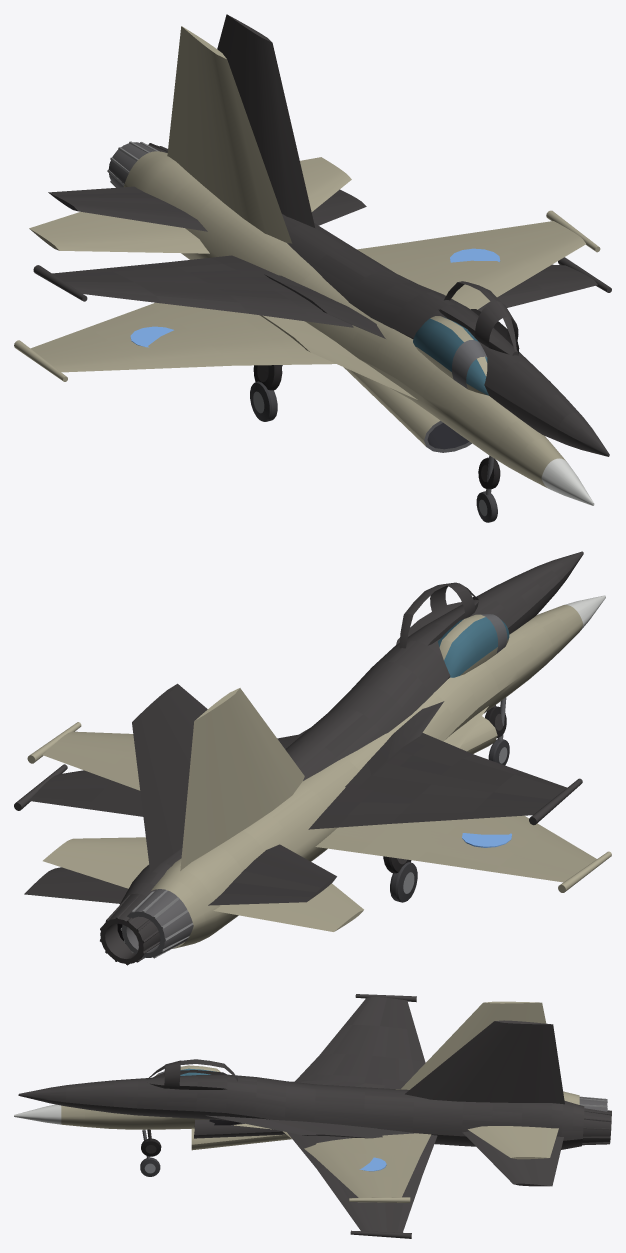
File: lightFighter__f_16c_barak_ii.glb
3 views of the same model, one above another, from view 1: azimuth 30°, elevation 25°; view 2: azimuth 150°, elevation 25°; view 3: azimuth 270°, elevation 25° (orthographic). The views are drawn at different scales.
Parts seen in each view (by area): view 1: Fuselage_Mesh, Wreck; view 2: Fuselage_Mesh, Wreck; view 3: Wreck, Fuselage_Mesh.
Part boxes in pixels (<box>): Fuselage_Mesh: <box>14,26,600,522</box>; Wreck: <box>33,14,611,489</box>; Fuselage_Mesh: <box>27,595,611,958</box>; Wreck: <box>14,551,583,965</box>; Wreck: <box>18,994,611,1238</box>; Fuselage_Mesh: <box>14,1001,607,1202</box>.
Size of what is drawn, in the model's own units: 10.4 by 4.88 by 15.21.
